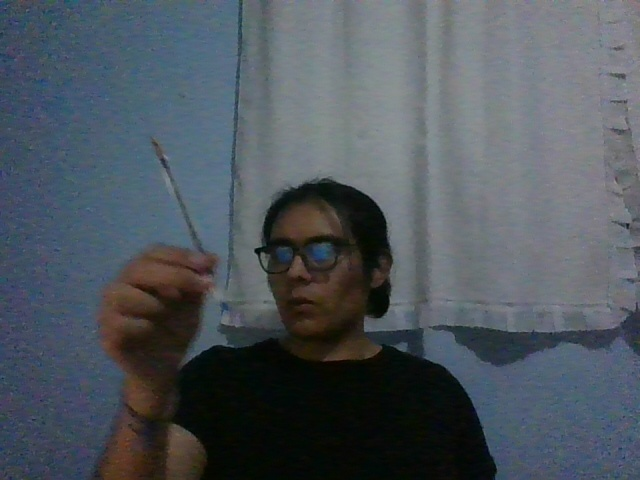pluma: (149, 135, 230, 312)
